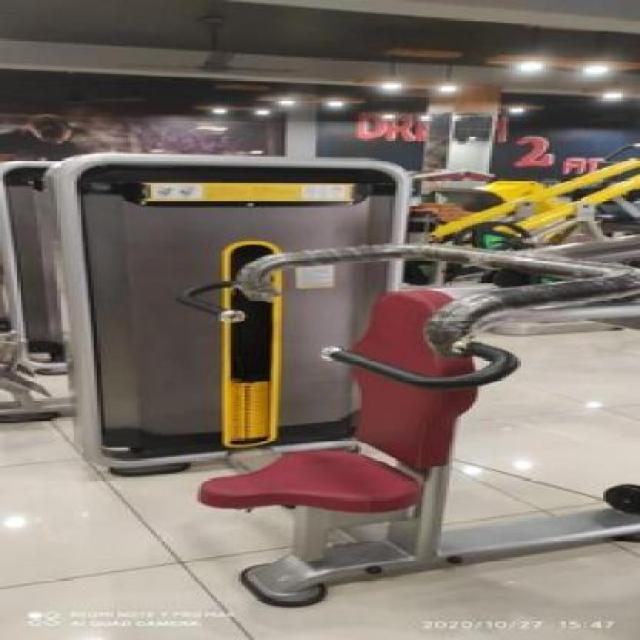shoulder press machine: (26, 140, 640, 626)
